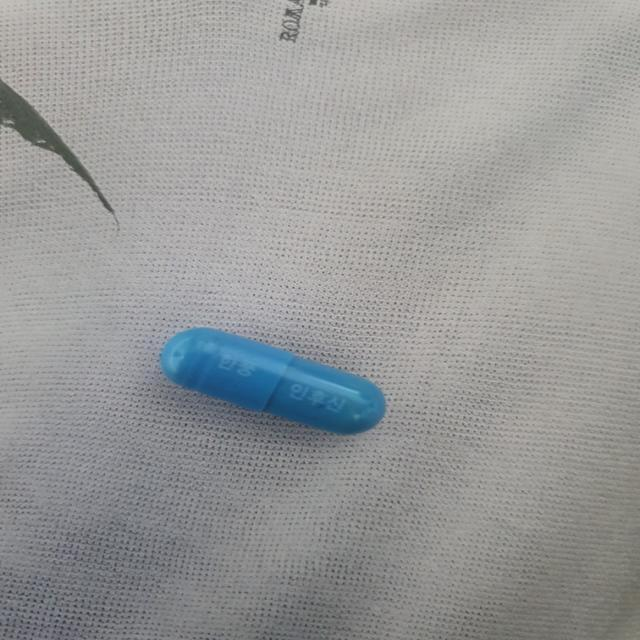pill: (163, 320, 386, 444)
